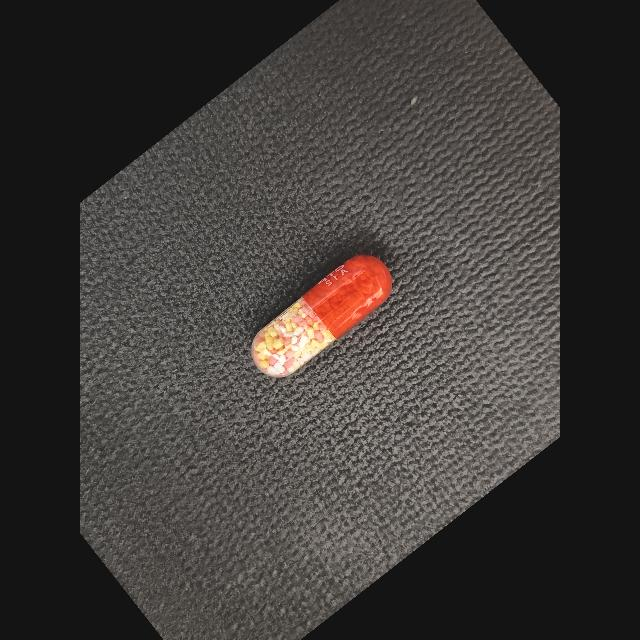Intact Capsule: (251, 255, 392, 377)
